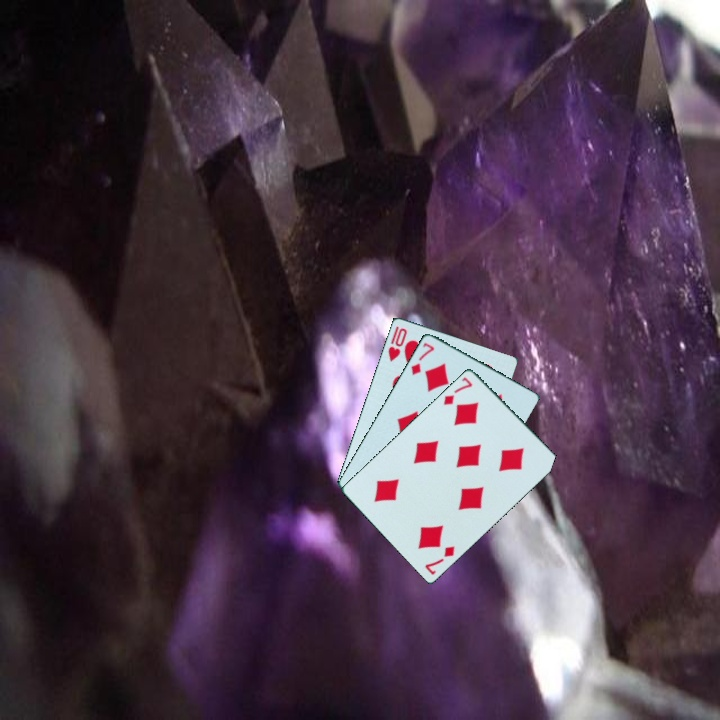10h: (384, 322, 410, 364)
7d: (421, 542, 458, 577), (440, 373, 475, 408), (407, 339, 437, 378)
